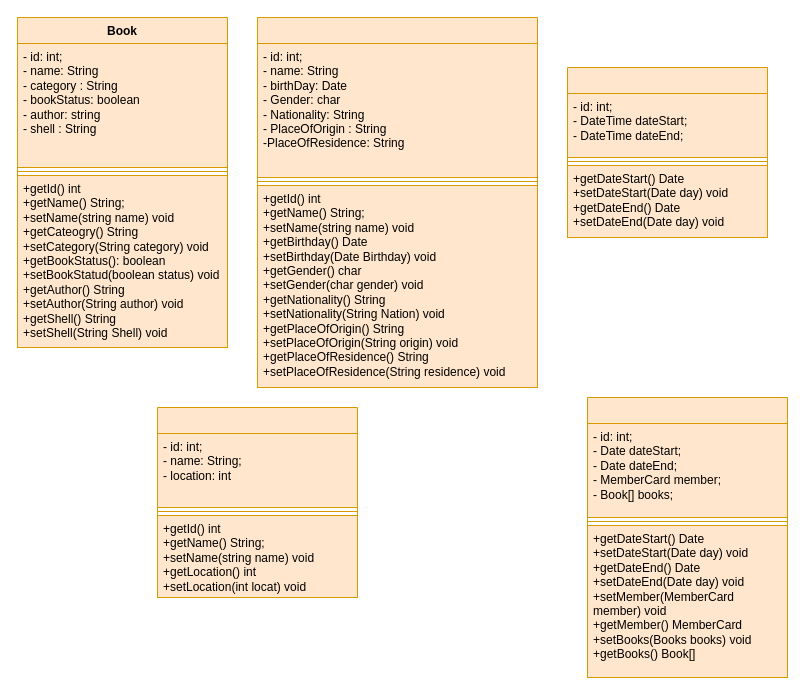
This 805x698 diagram has some shape labels left out. Each missing label, with the box of its shape:
"abstract" Reader: (256, 16, 538, 388)
MemberCard: (566, 66, 768, 238)
Rental: (586, 396, 788, 678)
Shell: (156, 406, 358, 598)
